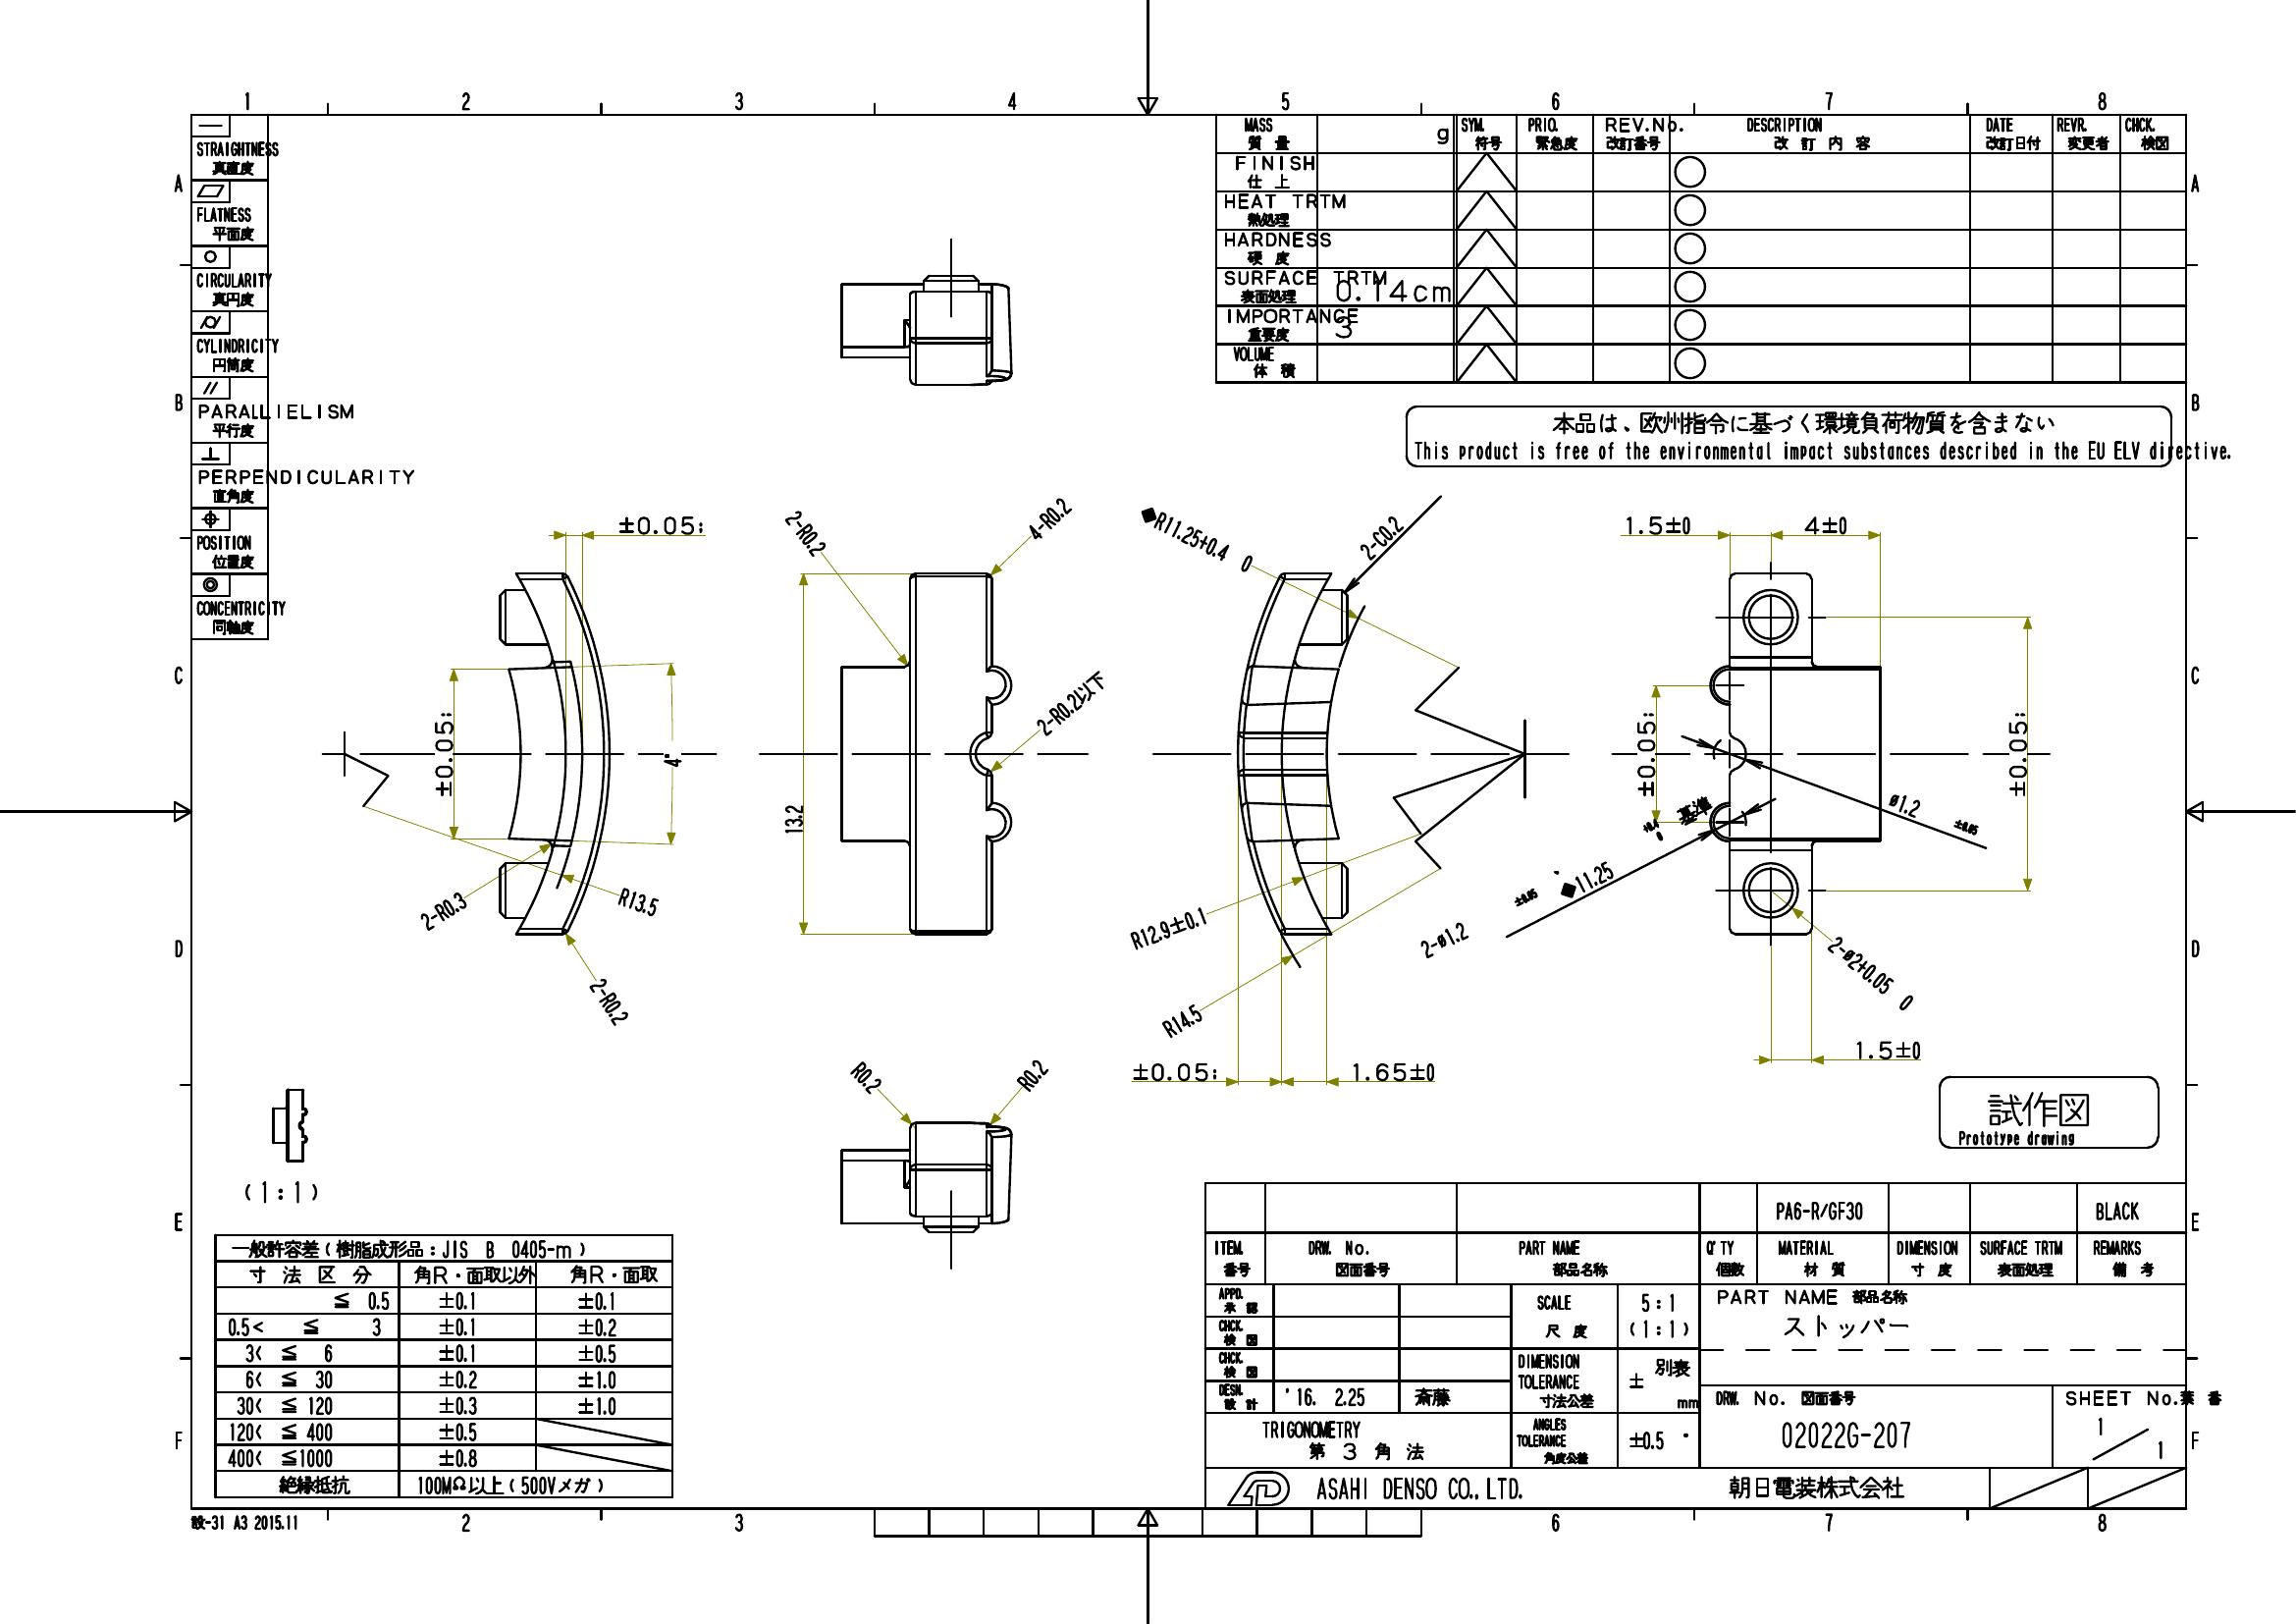anntotation_text: (1407, 406, 2173, 468), (1939, 1076, 2159, 1148), (237, 1176, 323, 1204), (190, 1512, 299, 1531), (1674, 800, 1715, 819)
dimension_text: (1549, 842, 1672, 877), (1412, 910, 1544, 933), (1133, 529, 1256, 548), (430, 710, 455, 807), (1885, 801, 1983, 824), (1820, 965, 1924, 984), (615, 513, 708, 534), (1634, 708, 1655, 798), (1351, 1060, 1437, 1081), (1029, 692, 1114, 714), (2008, 708, 2027, 800), (1852, 1035, 1924, 1058), (1131, 1062, 1219, 1079), (1130, 917, 1209, 937), (1623, 513, 1692, 534), (1351, 526, 1409, 547), (778, 522, 833, 543), (580, 991, 636, 1011), (1801, 515, 1852, 536), (1022, 508, 1073, 529), (415, 902, 469, 921), (1163, 1011, 1203, 1032), (617, 891, 659, 910), (845, 1067, 884, 1086), (782, 801, 803, 837), (1015, 1065, 1051, 1084)
object: (840, 571, 1012, 935), (1709, 571, 1881, 935), (497, 575, 611, 939), (1237, 573, 1347, 935), (840, 1120, 1008, 1232), (841, 274, 1012, 385), (271, 1090, 307, 1162)
title_block: (1205, 1179, 2185, 1510), (1217, 112, 2185, 383), (213, 1236, 673, 1497), (191, 112, 267, 640)
